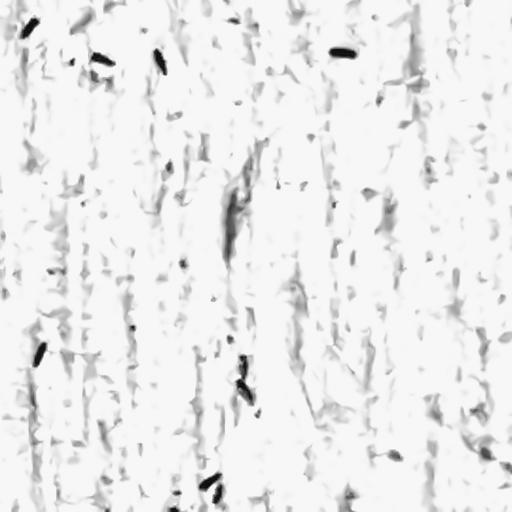egg: (199, 472, 223, 504), (238, 379, 254, 405), (20, 17, 39, 38), (200, 472, 221, 491), (89, 52, 114, 65), (154, 48, 165, 75), (329, 47, 357, 57), (34, 342, 45, 367), (238, 354, 248, 380)
